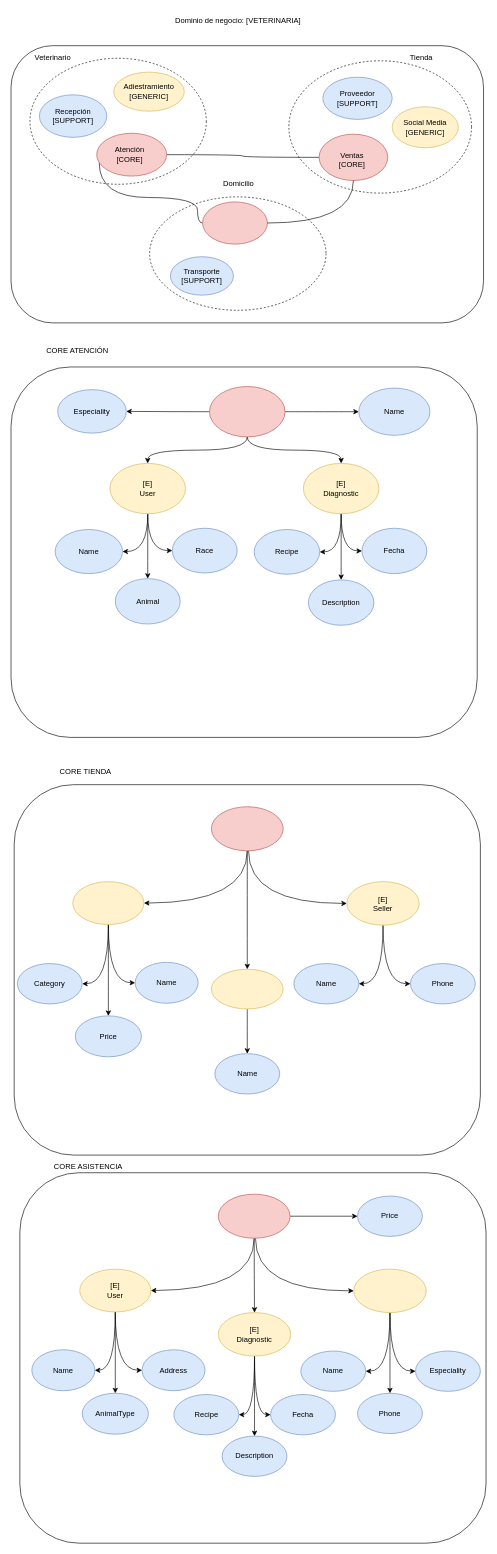
Some shapes in this 497 by 1554 pixel diagram are drawn without their labels. The shapes that lost their labels are listed below. From the top down, each one's box as (x1, y1, x2, y2) in pixels, then its label:
(202, 201, 267, 244): Asistencia [CORE]
(209, 386, 285, 437): [AR] Doctor
(211, 806, 283, 851): [AR] Store
(72, 881, 144, 925): [E] Merchandise
(211, 969, 283, 1009): [E] Client
(218, 1194, 290, 1238): [AR] HomeConsult
(353, 1269, 426, 1313): [E] Doctor
